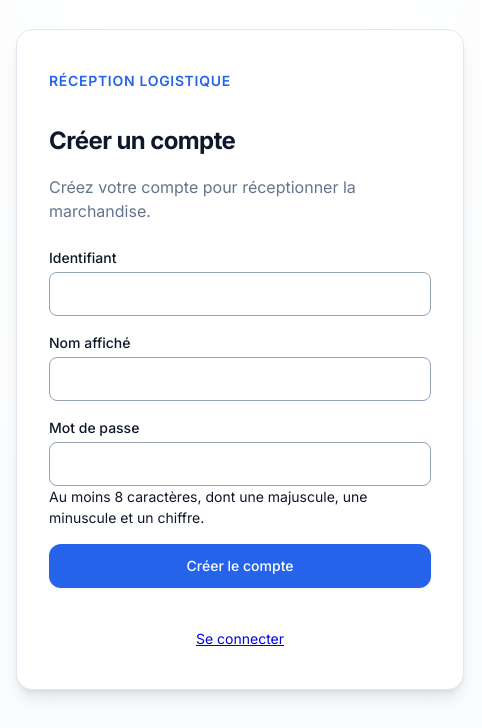
SignUpPage › shows the error and stays on the page when registration fails
Type "nouvel-operateur" into the field labelled "Identifiant".
click(240, 294); type("nouvel-operateur")  # box [49,272,431,316]
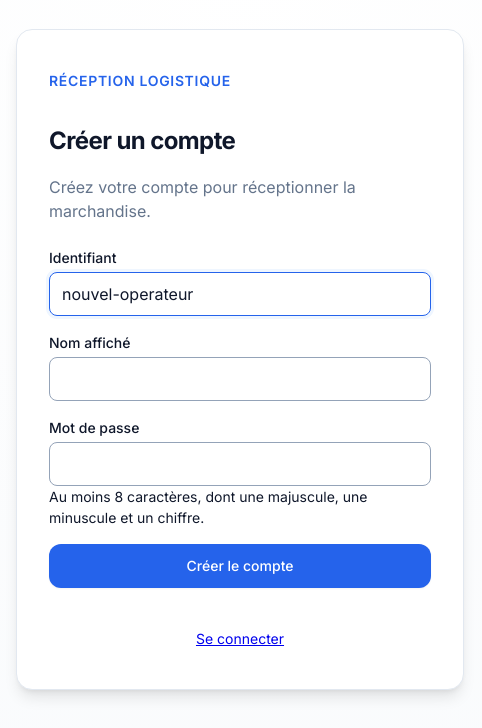
Type "Nouvel opérateur" into the field labelled "Nom affiché".
click(240, 378); type("Nouvel opérateur")  # box [49,356,431,400]
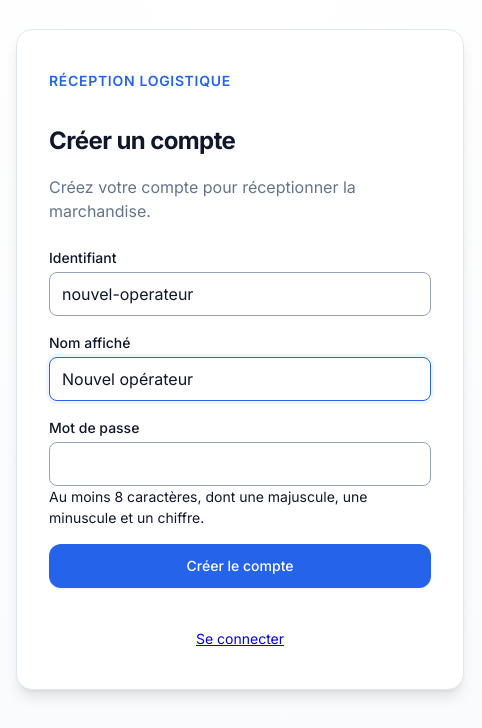
Type "Reception2026" into the password field labelled "Mot de passe".
click(240, 464); type("Reception2026")  # box [49,442,431,486]
Then press Enter
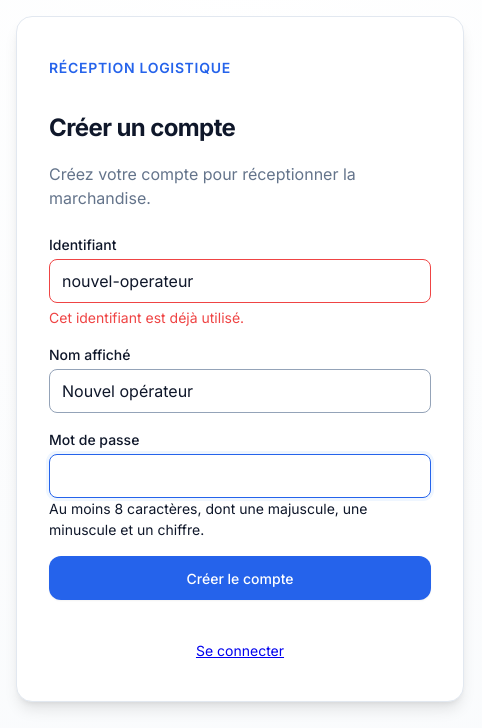
expect the text "Cet identifiant est déjà utilisé." is shown: met, box [49,309,244,326]
